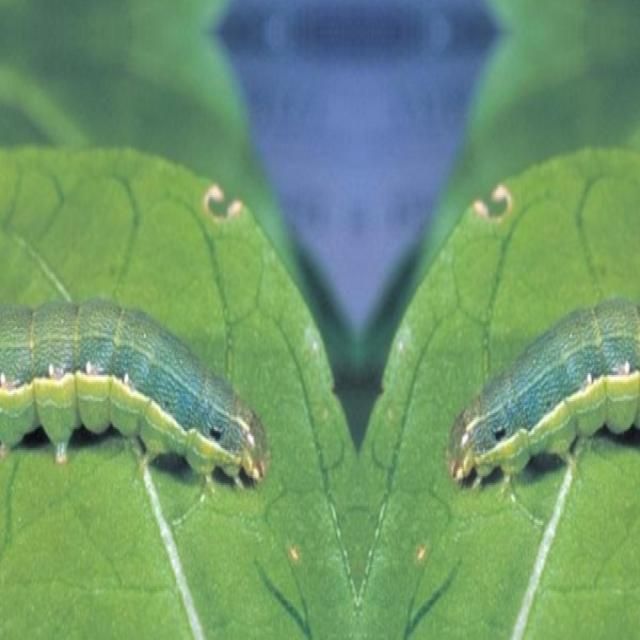armyworm: (0, 295, 270, 514), (445, 293, 639, 521)
